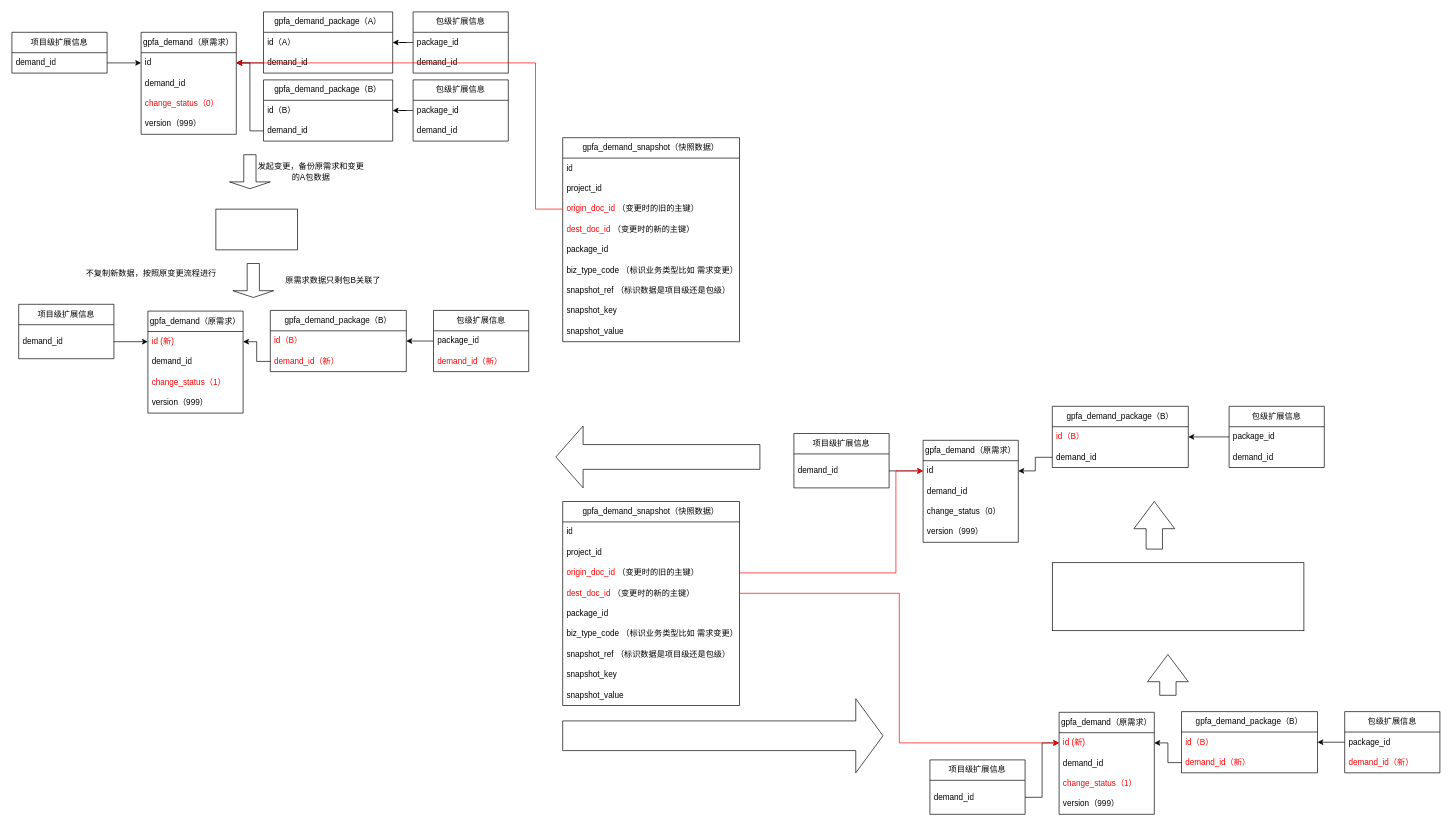
Image size: 1452x826. Some labels were removed from this diagram. Here are the shapes that lost their labels. From the top down, the centre of each, then its label:
At (256,229): "保存快照数据集".
At (657,456): "恢复数据".
At (1178,596): "根据快照表的 dest_doc_id 字段查出所有快照数据".
At (722,735): "撤销变更".
